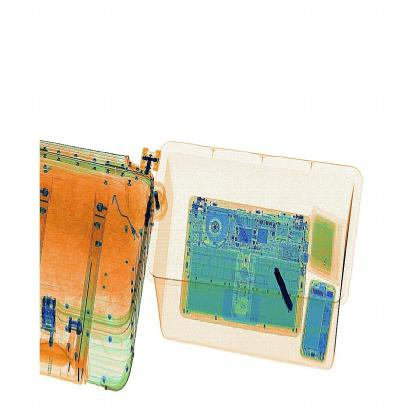knife: (262, 255, 298, 320)
